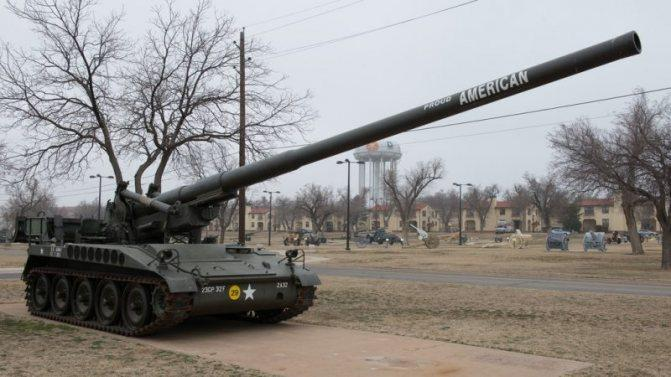sau: (8, 28, 656, 341)
